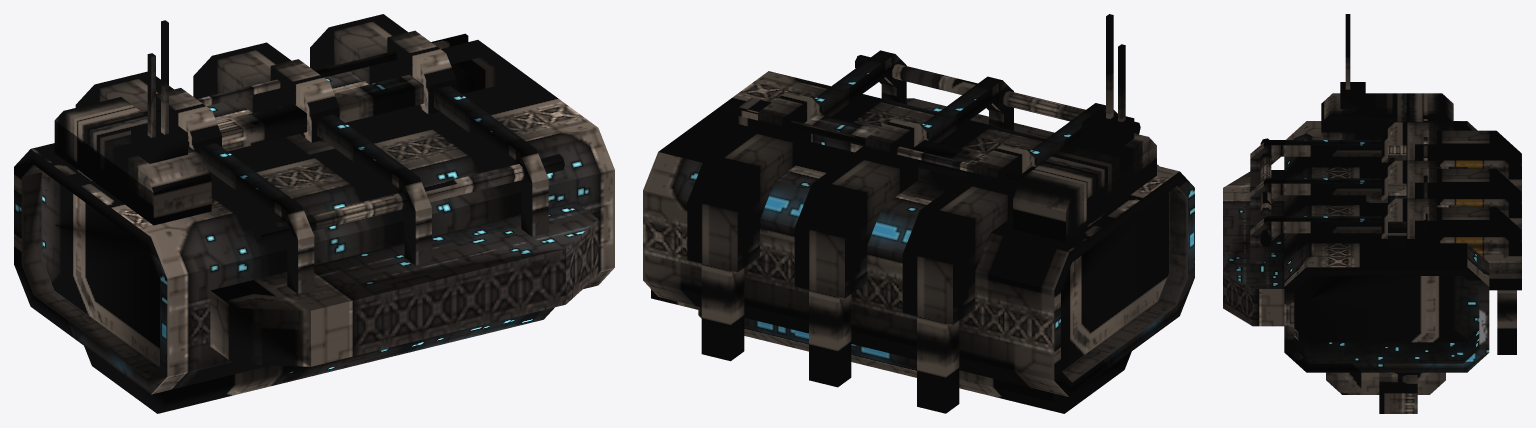
The model's file is space_station.obj.
3 views of the same model, side by side, from view 1: azimuth 30°, elevation 25°; view 2: azimuth 150°, elevation 25°; view 3: azimuth 270°, elevation 25° (orthographic). The views are drawn at different scales.
Parts seen in each view (by area): view 1: mesh_0; view 2: mesh_0; view 3: mesh_0.
Boxes of the visible parts, bbox=[...] form: mesh_0: bbox=[14, 14, 614, 413]; mesh_0: bbox=[643, 14, 1194, 413]; mesh_0: bbox=[1223, 14, 1521, 413].
Size of the model in its own units: 1184 by 886 by 931.
Materials: 1 (1 with a texture image).
